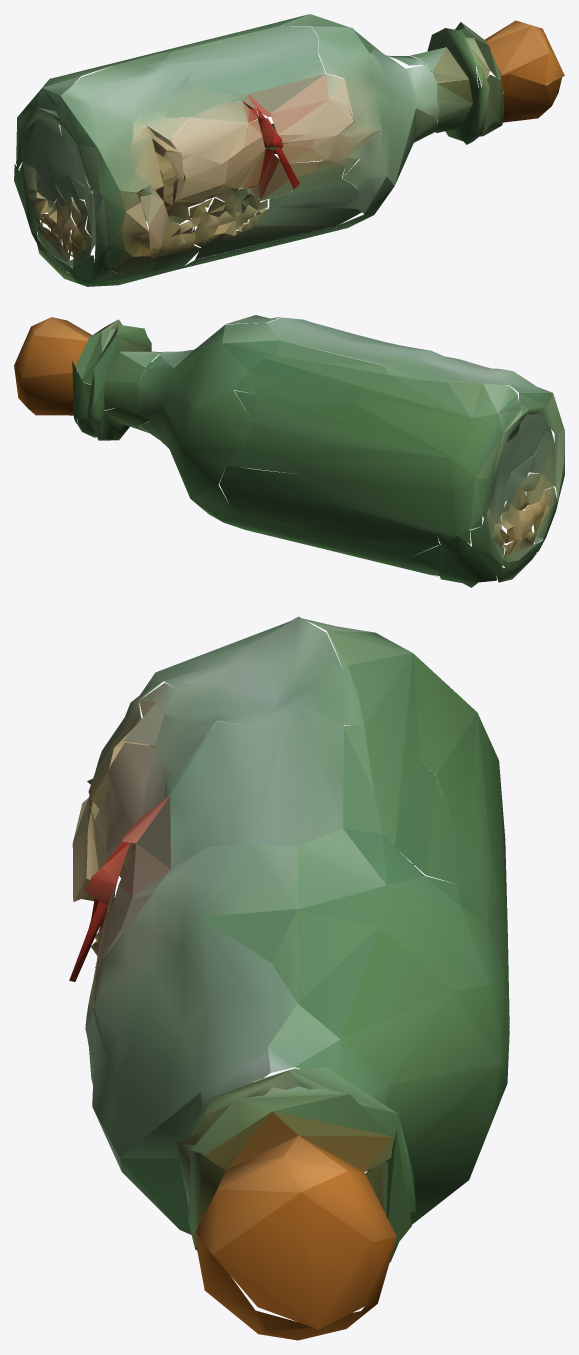
Rendered from building-messageBottle.glb.
3 views of the same model, one above another, from view 1: azimuth 30°, elevation 25°; view 2: azimuth 150°, elevation 25°; view 3: azimuth 270°, elevation 25° (orthographic). The views are drawn at different scales.
Parts seen in each view (by area): view 1: 0_messageBottle; view 2: 0_messageBottle; view 3: 0_messageBottle.
Boxes of the visible parts, x1,y1,x2,y2 form: 0_messageBottle: [14, 14, 564, 286]; 0_messageBottle: [14, 315, 564, 587]; 0_messageBottle: [69, 616, 509, 1340].
Bounding box in the file's own units: 0.3505 × 0.1343 × 0.1354.
